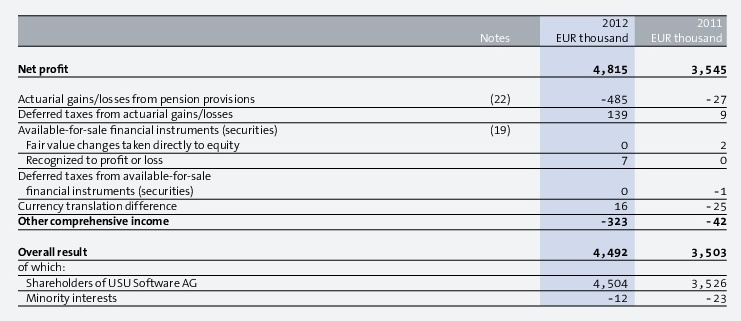table: (0, 0, 741, 321)
